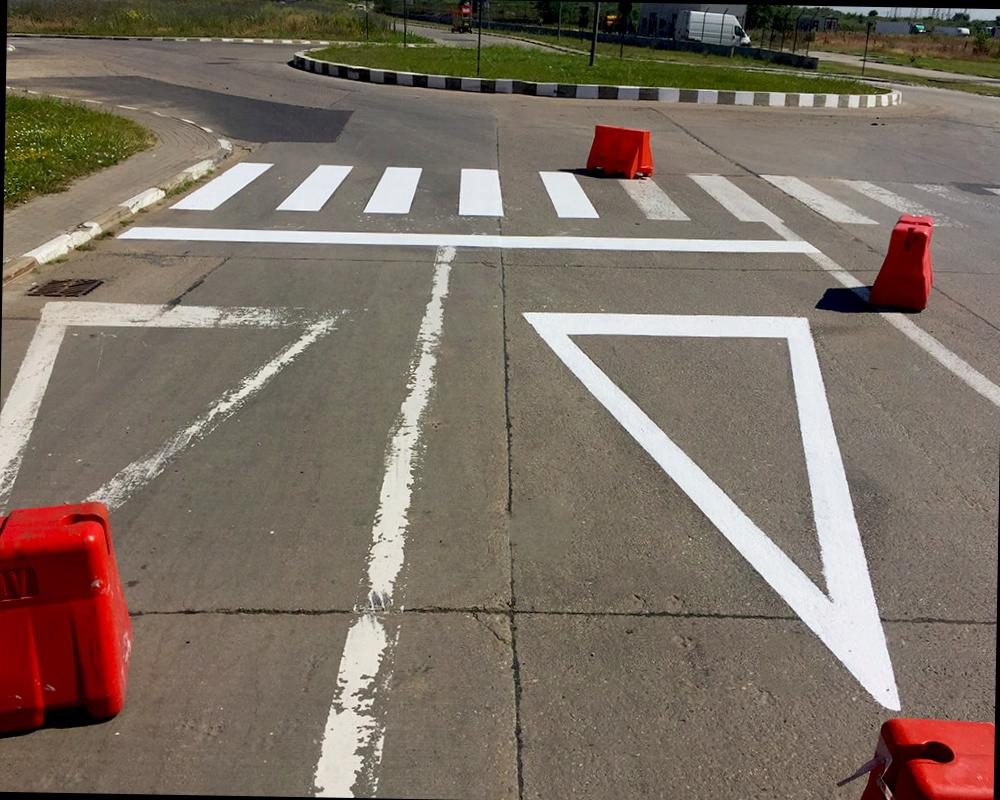faded_road_lines: (0, 260, 360, 563), (284, 233, 466, 800), (801, 237, 1000, 407), (610, 168, 1000, 230)
